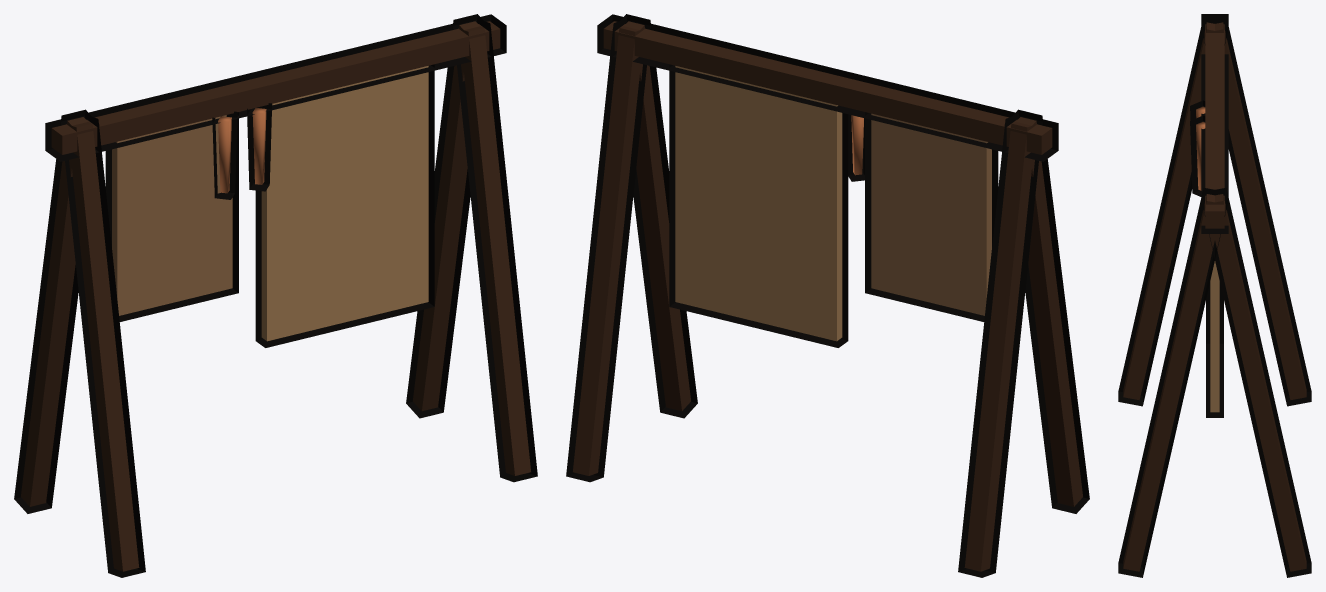
Rendered from rack.glb.
3 renders of one model, left to right at view 1: azimuth 30°, elevation 25°; view 2: azimuth 150°, elevation 25°; view 3: azimuth 270°, elevation 25°, orthographic. The views are drawn at different scales.
Parts seen in each view (by area): view 1: Prop_hearth_rack; view 2: Prop_hearth_rack; view 3: Prop_hearth_rack.
Part boxes in pixels (x1=…): Prop_hearth_rack: x1=14, y1=14, x2=537, y2=577; Prop_hearth_rack: x1=566, y1=14, x2=1089, y2=577; Prop_hearth_rack: x1=1118, y1=14, x2=1311, y2=577.
Size of the model in its own units: 1.93 by 1.76 by 0.8095.
